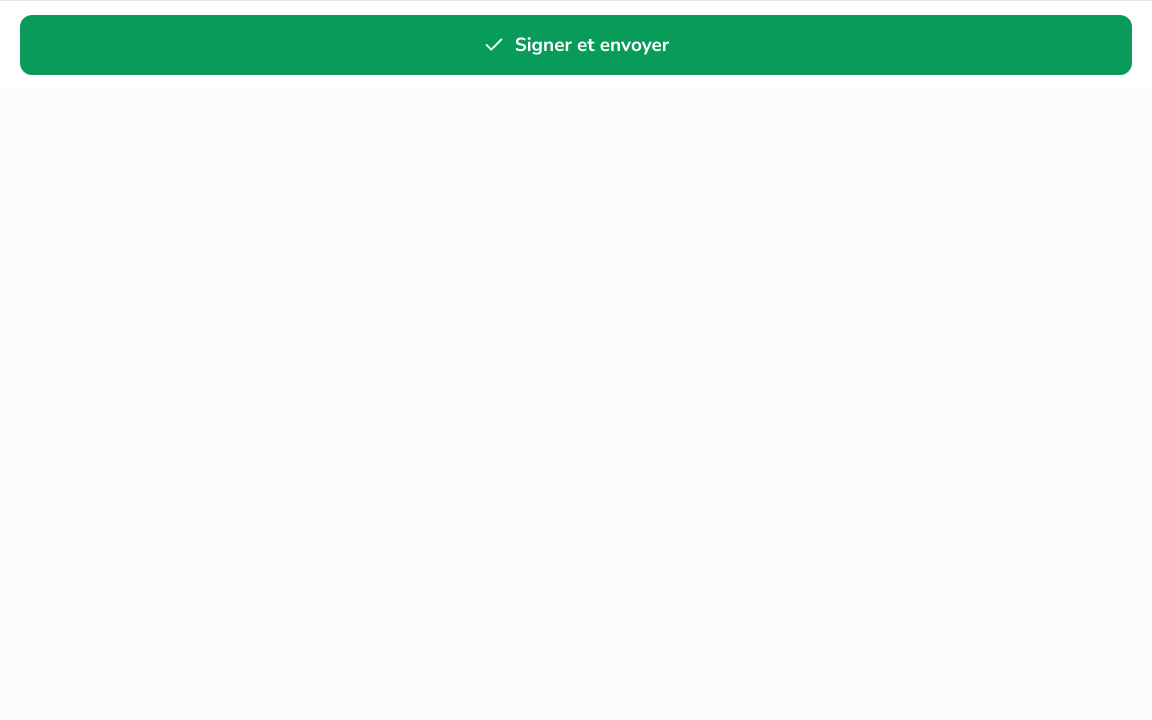
it: EluSignFooter › la signature demande confirmation avant de partir chez l'usager
The width and height of the screenshot is (1152, 720).
Later steps or results of the test are not shown.
Click the button "Signer et envoyer" at (576, 45), box [20,15,1132,75]
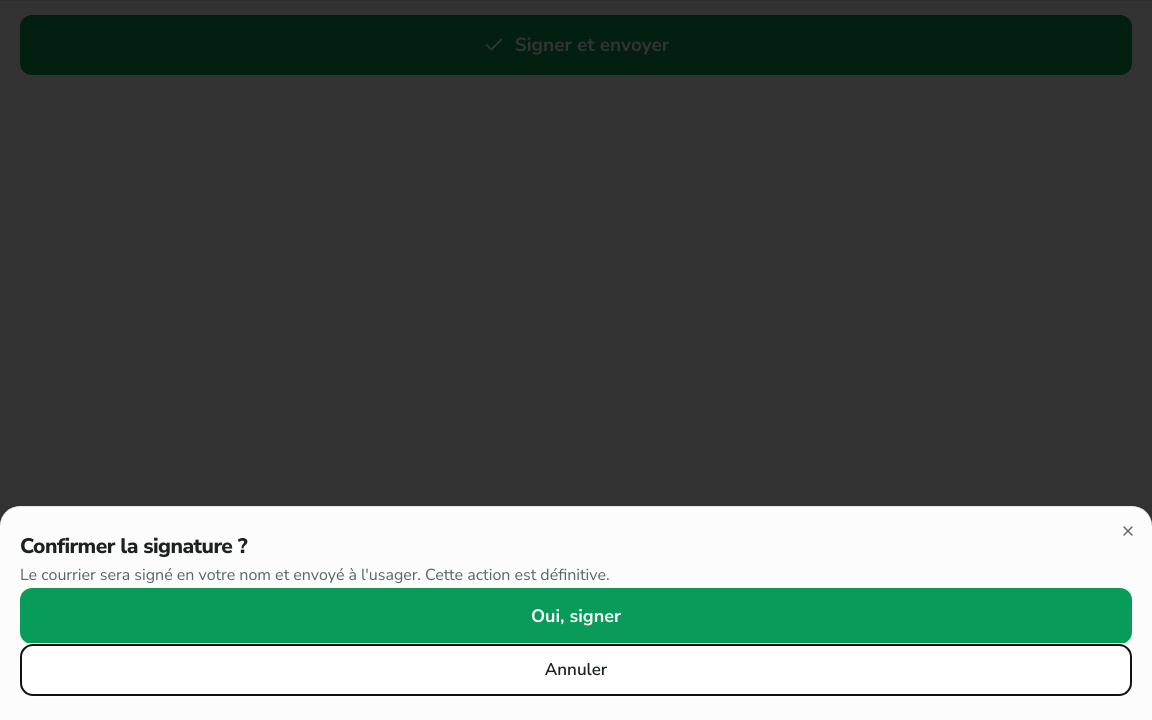
expect the heading "Confirmer la signature ?" is shown: met, box [20,532,247,560]
